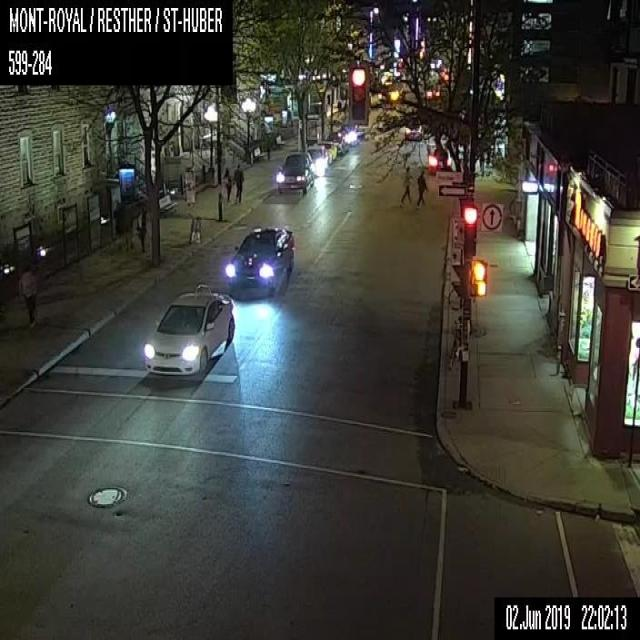pedestrian: (17, 267, 37, 328), (120, 200, 133, 249), (136, 202, 146, 254), (400, 165, 413, 202), (415, 168, 428, 205), (232, 163, 243, 201), (223, 166, 231, 202)
vehicle: (143, 291, 235, 375), (226, 226, 294, 293), (276, 151, 314, 193), (306, 143, 326, 174), (428, 148, 452, 170), (327, 131, 348, 153), (318, 140, 336, 162), (340, 126, 360, 144), (403, 124, 423, 140)
